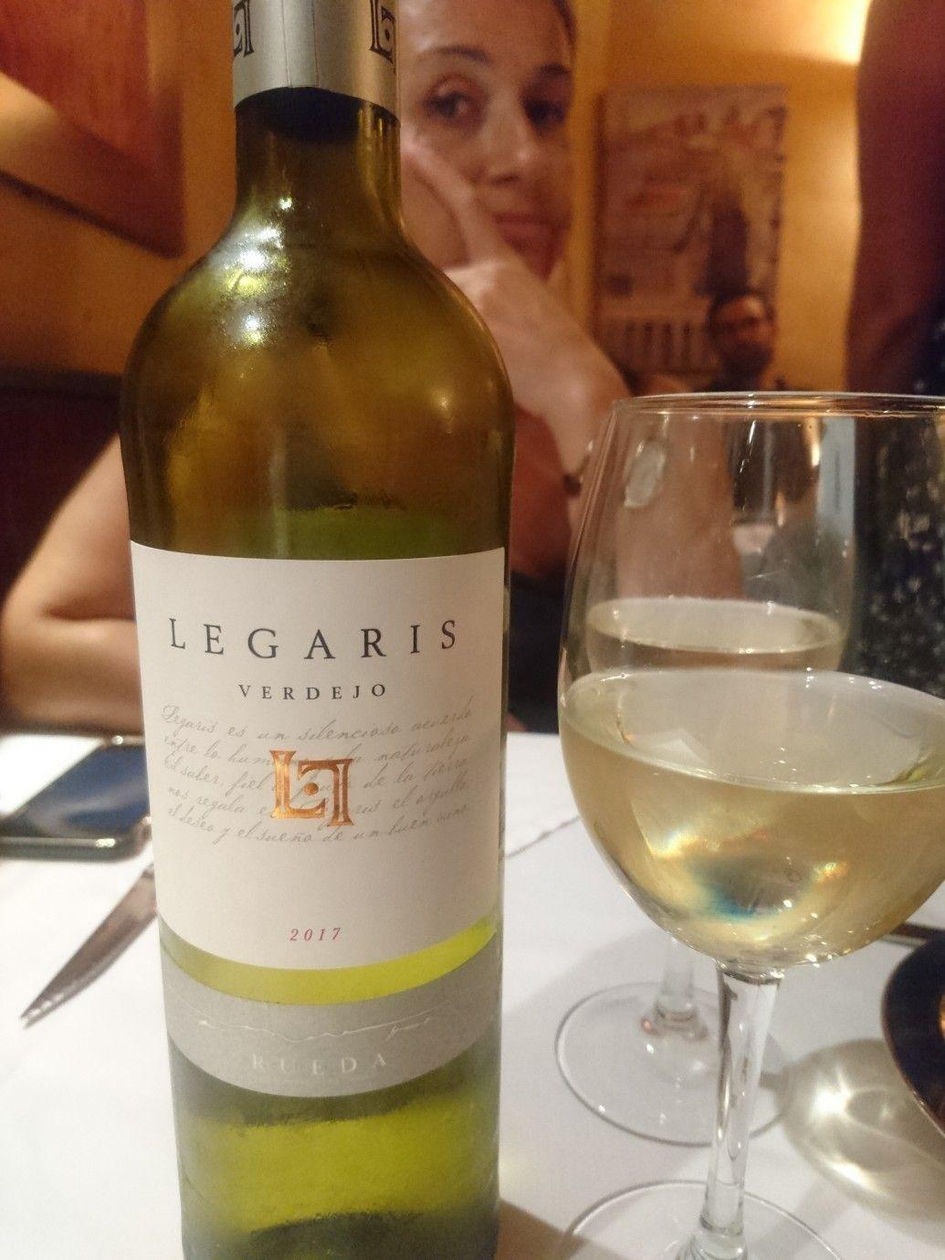bottle-glass: (110, 2, 527, 1246)
glass-wine: (541, 382, 942, 1245)
